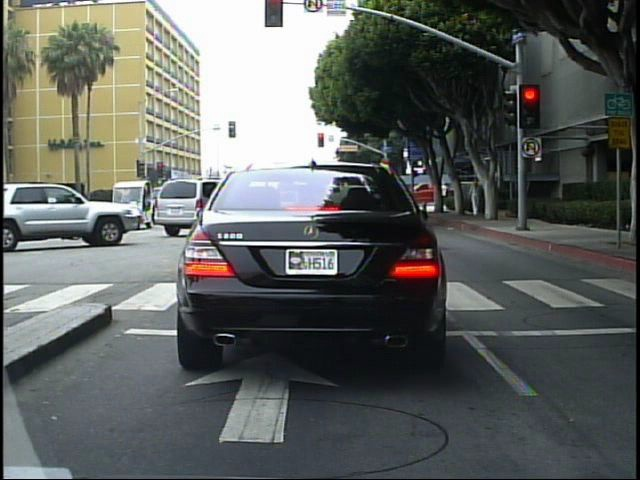person: (632, 166, 638, 276), (468, 179, 483, 218), (437, 179, 451, 212), (636, 166, 638, 276)
